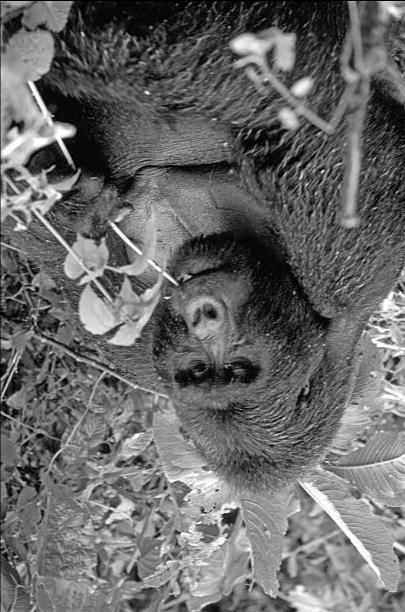goriile_montagne: (0, 4, 393, 508)
